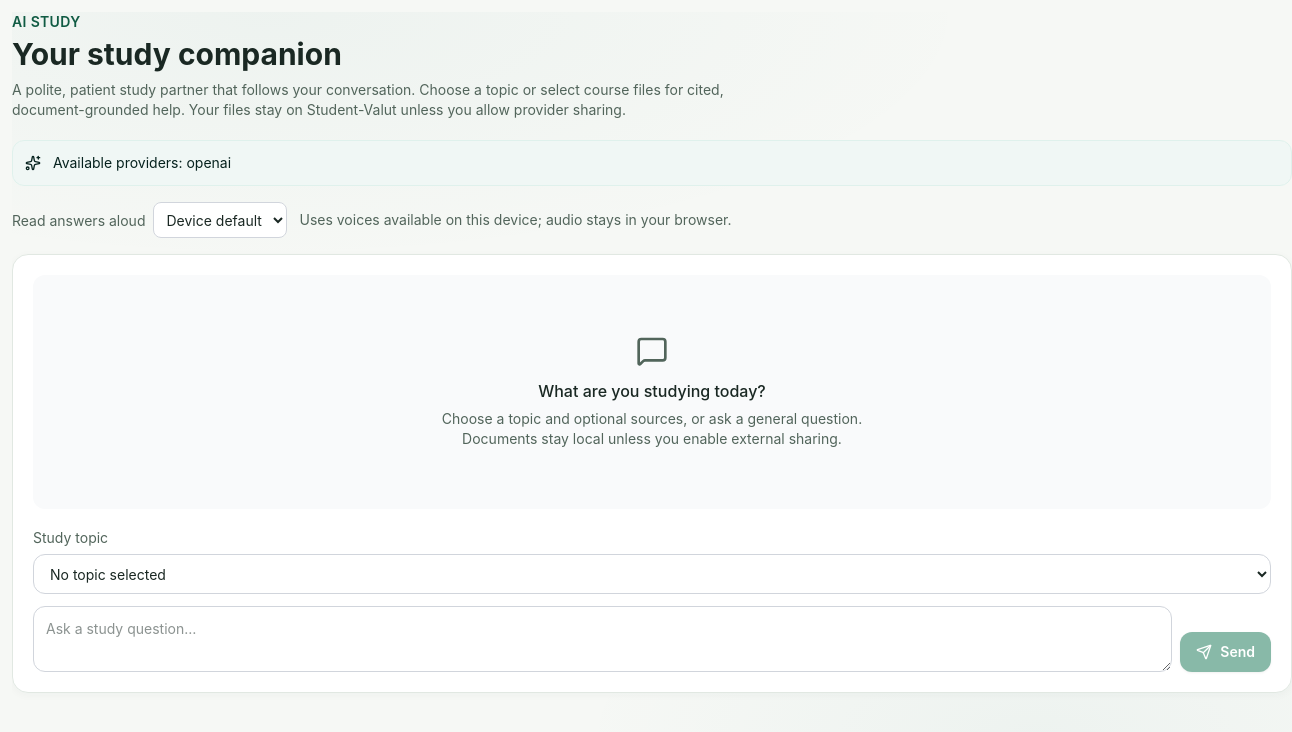
Test case: AIPage › shows configured providers and sends only entered conversation messages
Expected: the text "Available providers: openai" is shown, [53, 153, 231, 173]
Type "Explain recursion" into the text box named "Your study question" at (603, 639), box [33, 606, 1172, 672]
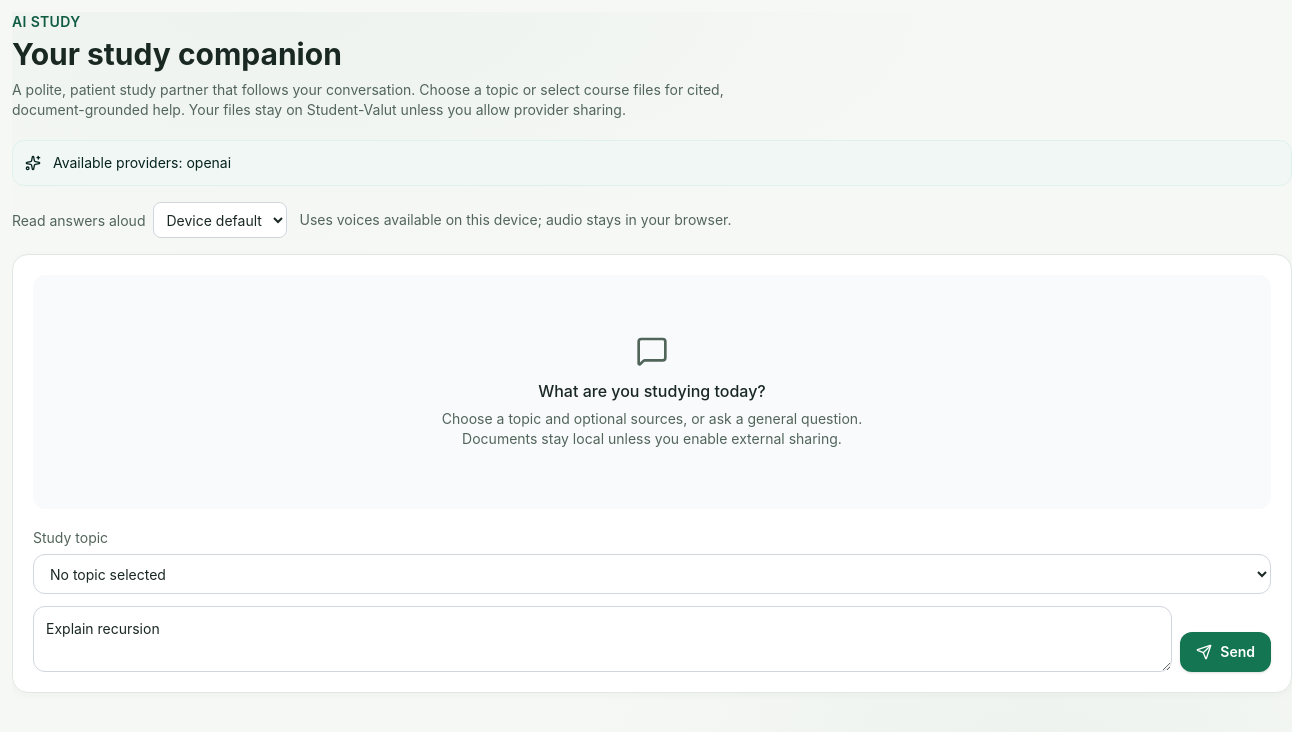
Click the button with aria-label "Send question" at (1226, 652), box [1180, 632, 1271, 672]
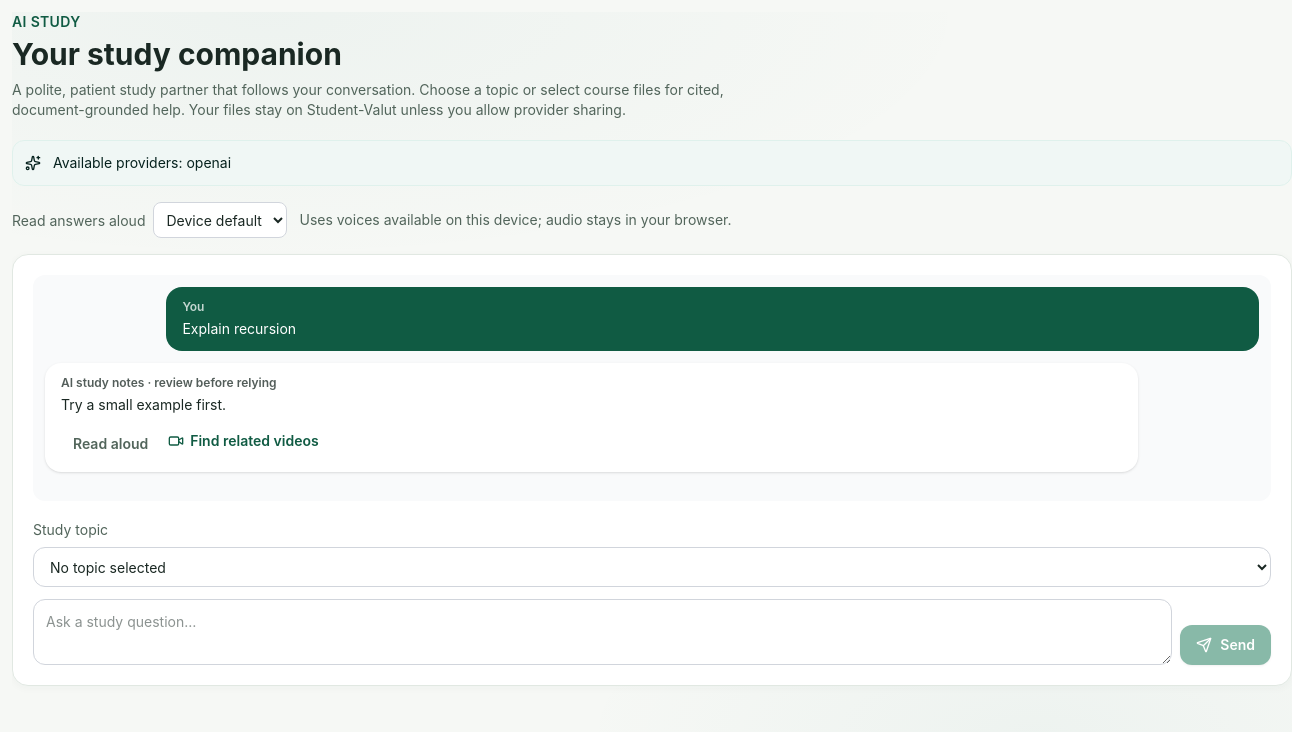
Expected: the text "Try a small example first." is shown, [61, 396, 226, 413]
